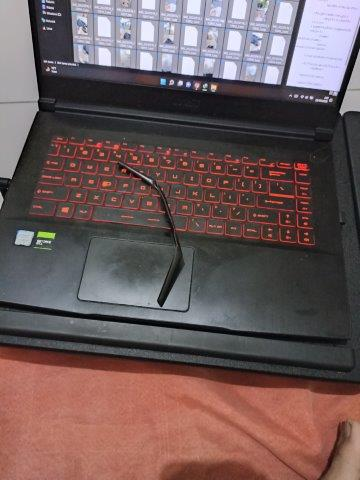sedotan: (118, 161, 181, 307)
